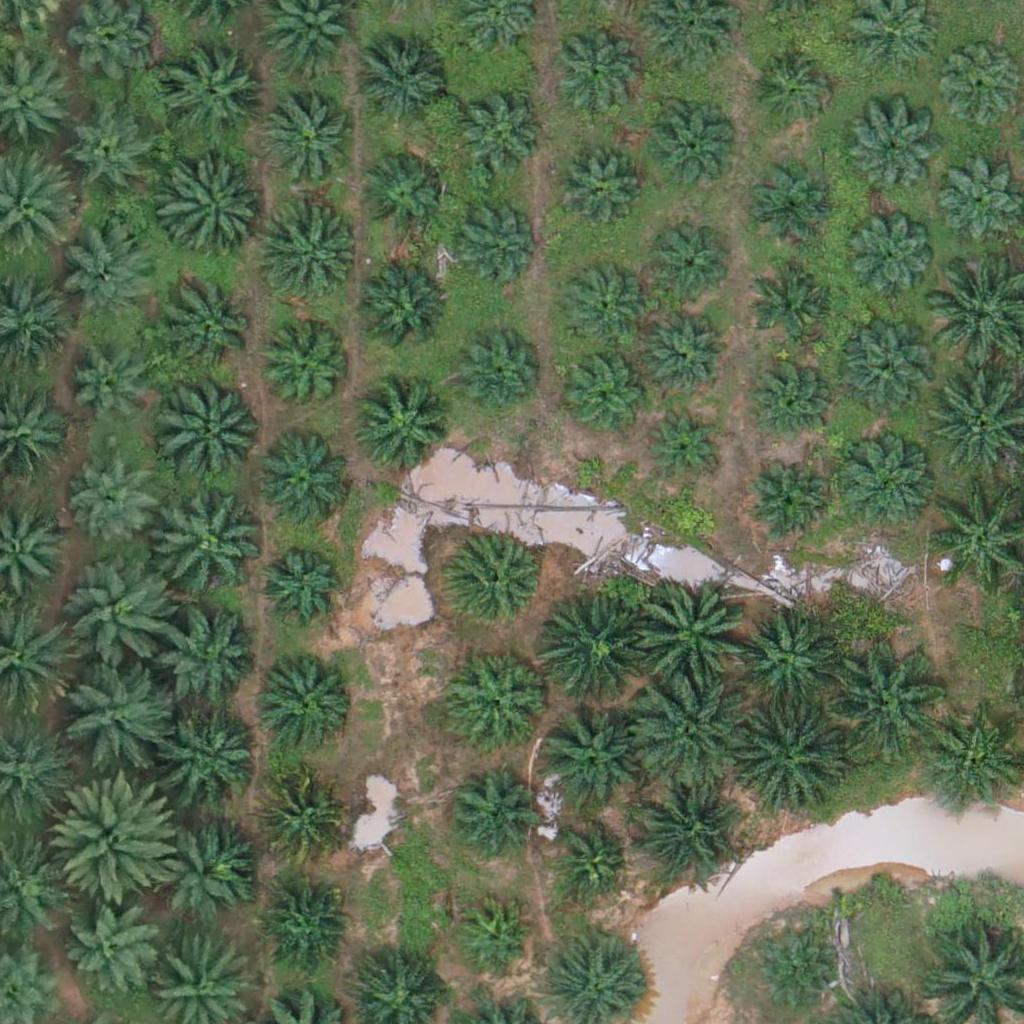Kelapa_Sawit: (55, 777, 180, 903), (729, 701, 842, 815), (57, 655, 170, 769), (536, 597, 649, 710), (151, 486, 264, 599), (64, 561, 177, 674), (157, 371, 269, 485), (829, 643, 941, 756), (637, 676, 749, 789), (636, 580, 748, 693), (537, 706, 637, 807), (257, 648, 357, 749), (164, 707, 264, 808), (835, 326, 935, 427), (736, 607, 836, 708), (355, 30, 455, 131), (351, 262, 451, 363), (352, 378, 452, 479), (261, 206, 361, 307), (161, 46, 261, 147), (161, 162, 261, 263), (635, 781, 735, 881), (448, 649, 548, 749), (159, 614, 259, 714), (149, 814, 249, 914), (834, 432, 934, 532), (446, 534, 546, 634), (254, 434, 354, 534), (163, 278, 263, 378), (64, 222, 164, 322), (748, 928, 836, 1016), (445, 766, 533, 854), (256, 772, 344, 860), (847, 112, 935, 200), (847, 213, 935, 301), (454, 93, 542, 181), (447, 195, 535, 283), (549, 143, 637, 231), (647, 98, 735, 186), (746, 461, 834, 549), (748, 44, 836, 132), (263, 328, 351, 416), (255, 541, 343, 629), (259, 880, 346, 968), (67, 904, 154, 992), (454, 330, 541, 418), (564, 347, 651, 435), (560, 262, 647, 350), (551, 26, 638, 114), (645, 223, 732, 311), (646, 307, 733, 395), (744, 351, 831, 439), (752, 254, 839, 342), (744, 157, 831, 245), (936, 158, 1023, 246), (359, 148, 446, 236), (268, 92, 355, 180), (68, 111, 155, 199), (68, 355, 155, 443), (73, 460, 160, 548), (647, 404, 722, 480), (457, 897, 532, 973), (552, 823, 627, 898)
